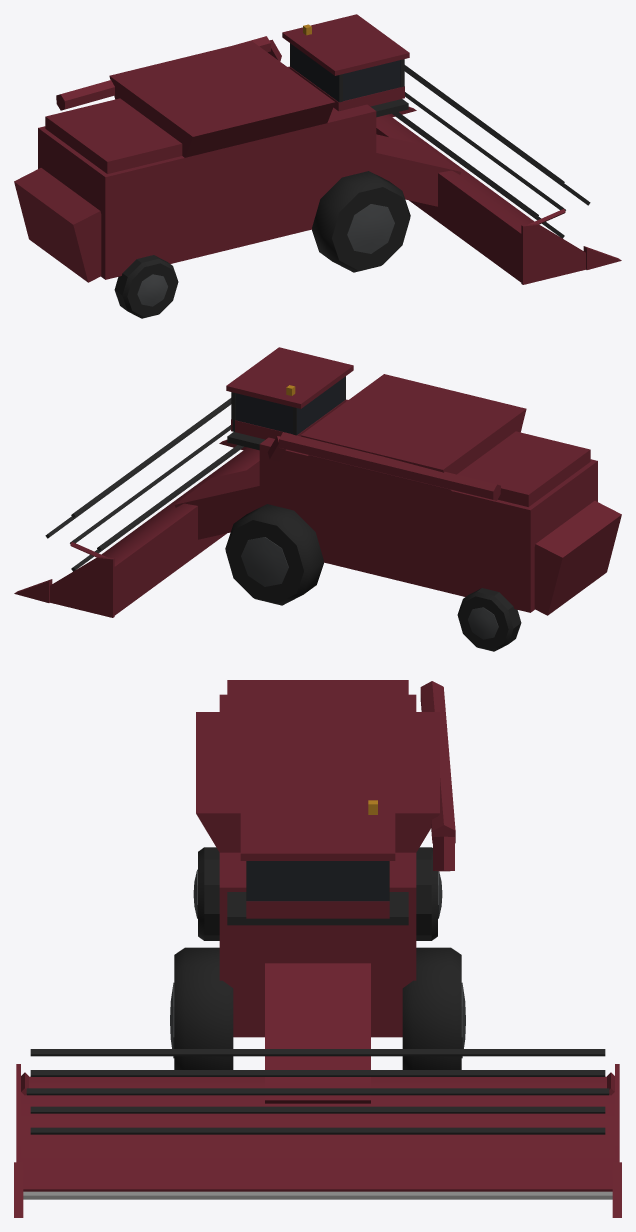
Rendered from SM_Prop_farm_combine_1_LOD1.glb.
3 views of the same model, one above another, from view 1: azimuth 30°, elevation 25°; view 2: azimuth 150°, elevation 25°; view 3: azimuth 270°, elevation 25° (orthographic). The views are drawn at different scales.
Visible parts, largest first — view 1: SM_Prop_farm_combine_1_LOD1; view 2: SM_Prop_farm_combine_1_LOD1; view 3: SM_Prop_farm_combine_1_LOD1.
Boxes of the visible parts, x1=… form: SM_Prop_farm_combine_1_LOD1: x1=14, y1=14, x2=621, y2=318; SM_Prop_farm_combine_1_LOD1: x1=14, y1=347, x2=621, y2=651; SM_Prop_farm_combine_1_LOD1: x1=14, y1=680, x2=621, y2=1217.
Bounding box in the file's own units: 10.15 × 4 × 7.72.
